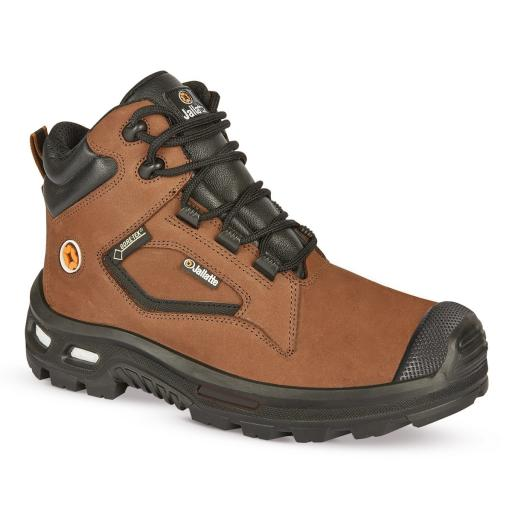safety_boots: (15, 68, 463, 454)
